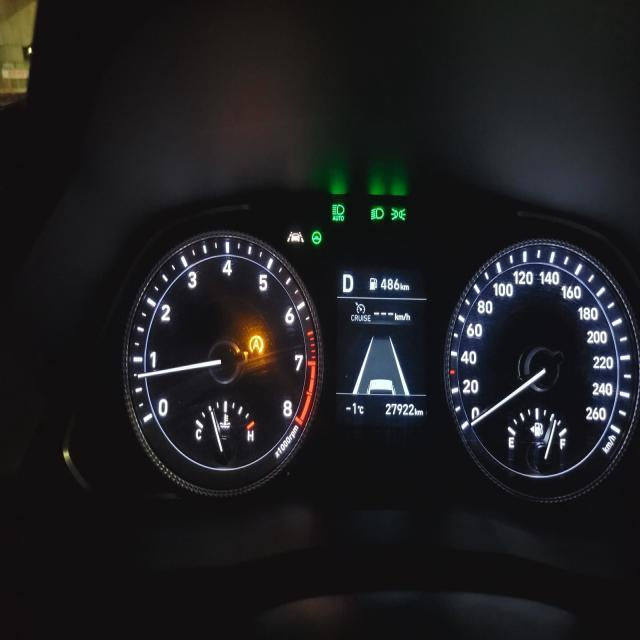LaneCenteringOff: (286, 229, 304, 243)
Low beam: (370, 207, 383, 220)
SideLamp: (390, 206, 406, 221)
